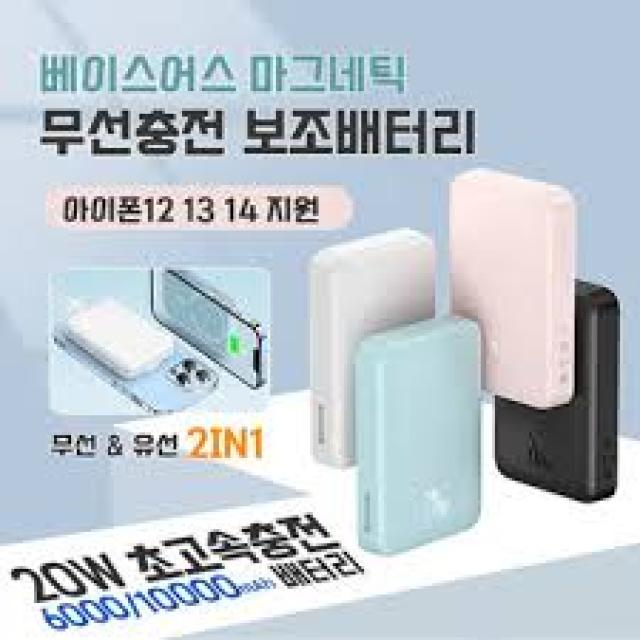portable-charger: (354, 310, 489, 564), (445, 162, 578, 413), (491, 268, 621, 509), (310, 223, 440, 460), (69, 290, 175, 380)
